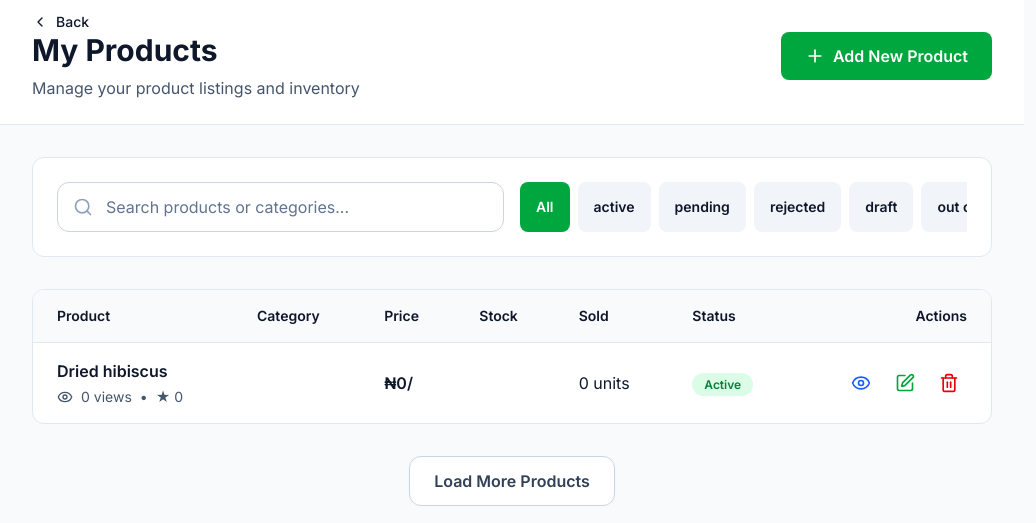
#558 — the seller-products seed answers only the question it was asked › AND LOAD MORE ASKS FOR THE NEXT PAGE, FROM THE SEEDED CURSOR
Step 1. Click the button "Load More Products" → [512, 481], box [409,456,615,506]
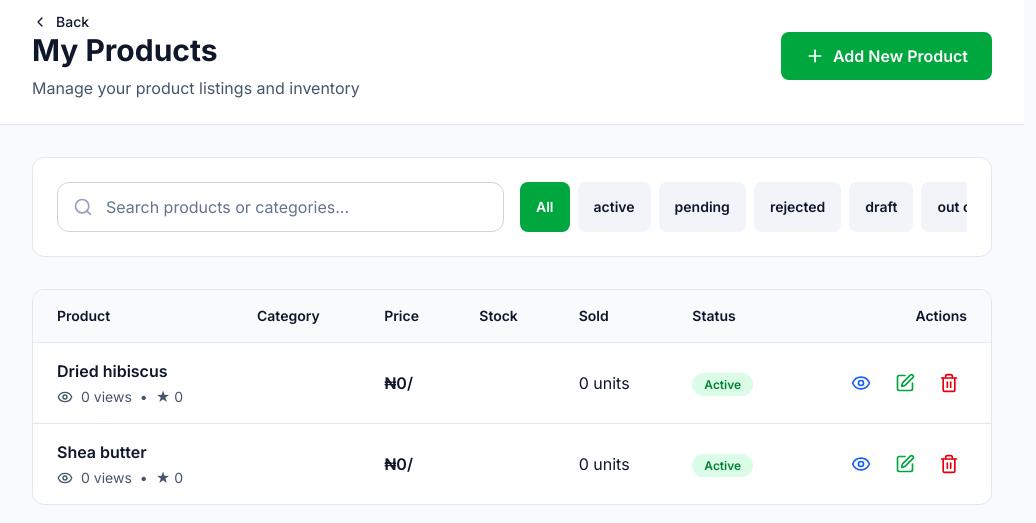
Now the text "Shea butter" is shown, box [57,442,147,462]
